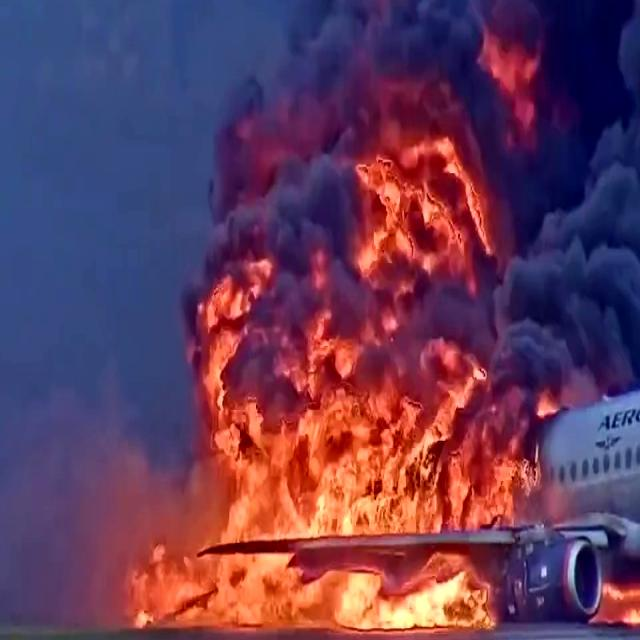fire: (210, 270, 521, 520), (175, 560, 488, 622), (355, 147, 483, 280)
smoke: (510, 0, 640, 385)
